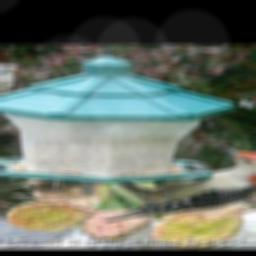Woodpecker: (101, 144, 256, 221)
